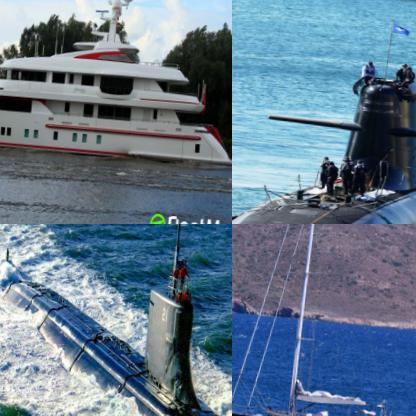Sails Boat: (232, 224, 415, 415)
Submarine: (0, 224, 231, 415), (232, 63, 415, 223)
Yacht: (0, 0, 231, 169)
